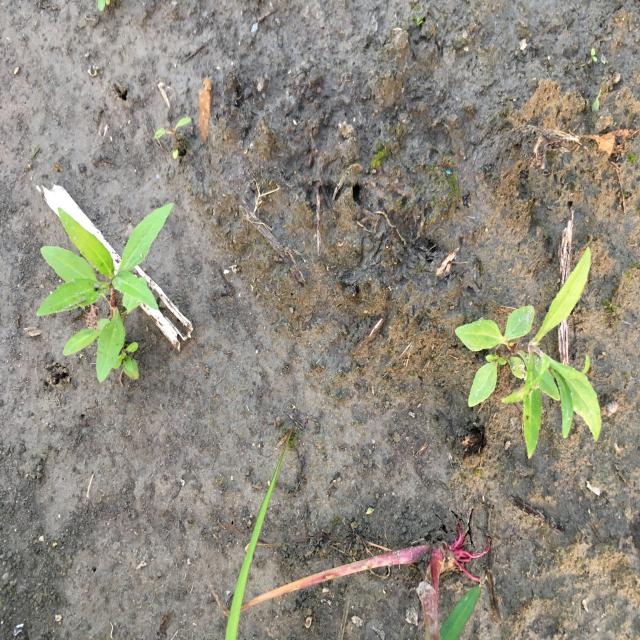Eclipta: (453, 245, 604, 462), (35, 201, 175, 385)
